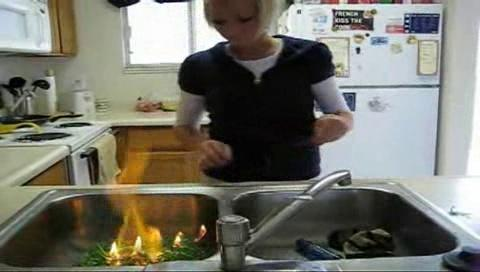fire: (106, 148, 165, 251)
